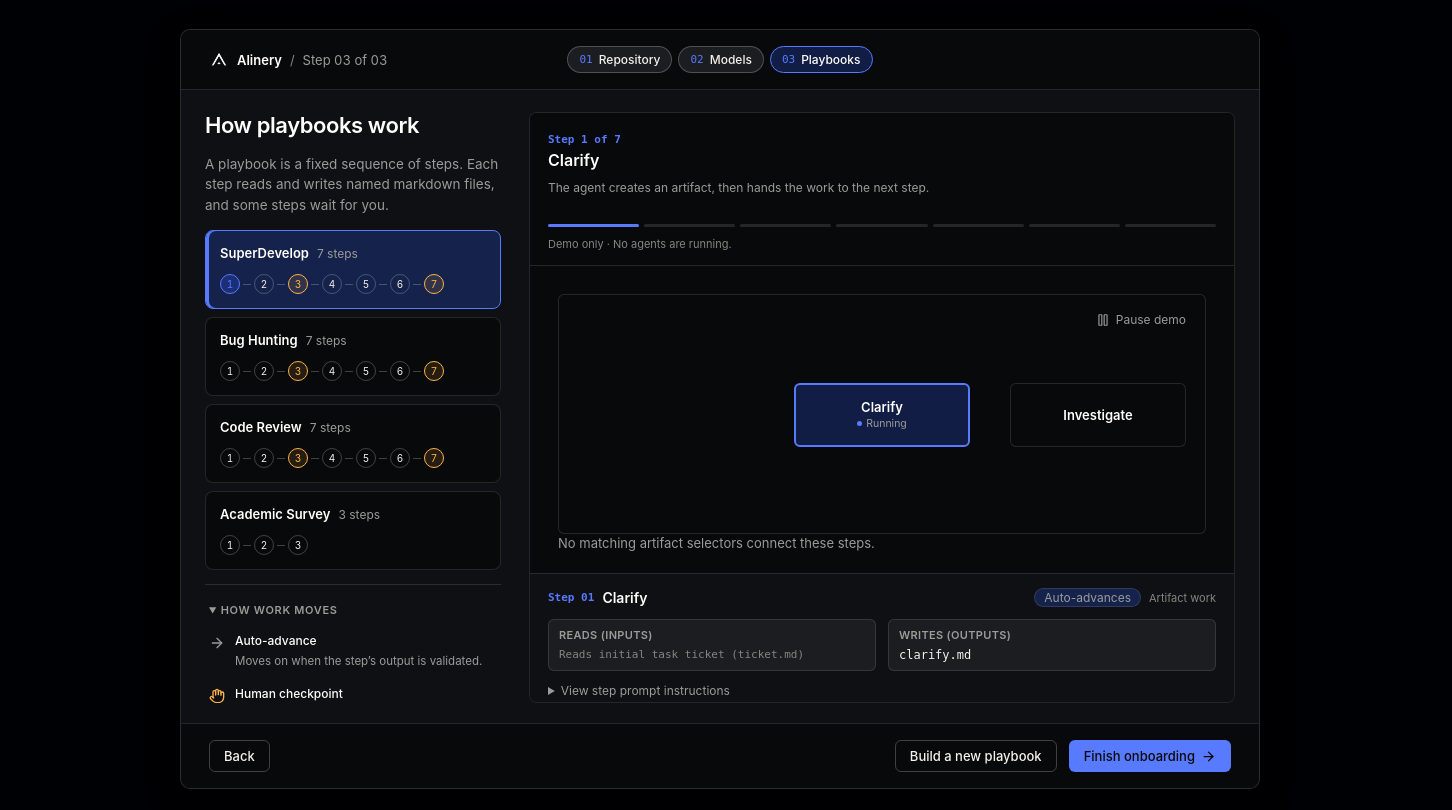
Scenario: OnboardingFlow wizard › moves playbook selection and focus with the keyboard without restarting a paused demo
Click the button "Pause demo" at (1141,320), box x1=1088 y1=306 x2=1194 y2=334
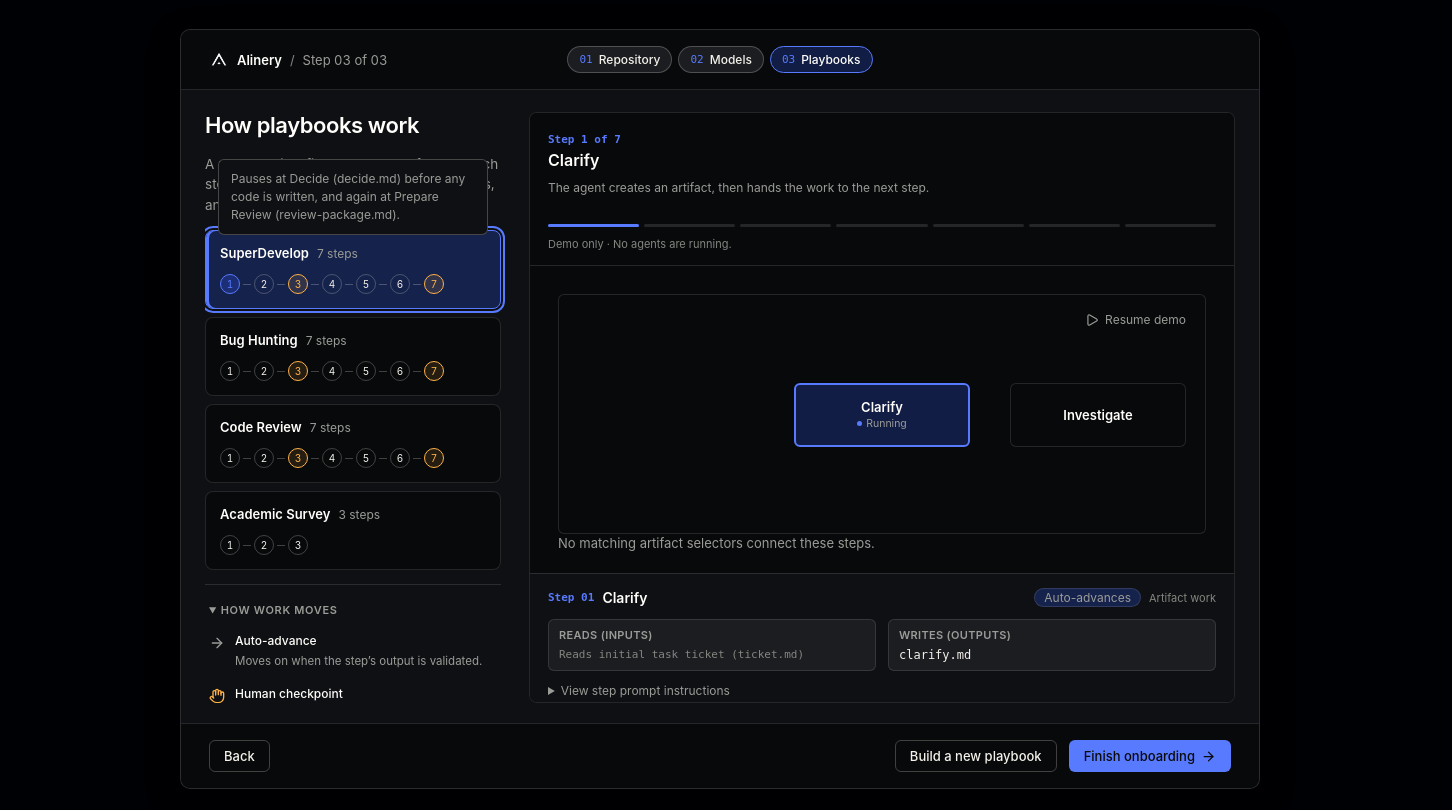
Press ArrowDown in the radio button that starts with "SuperDevelop", box x1=205 y1=230 x2=501 y2=309
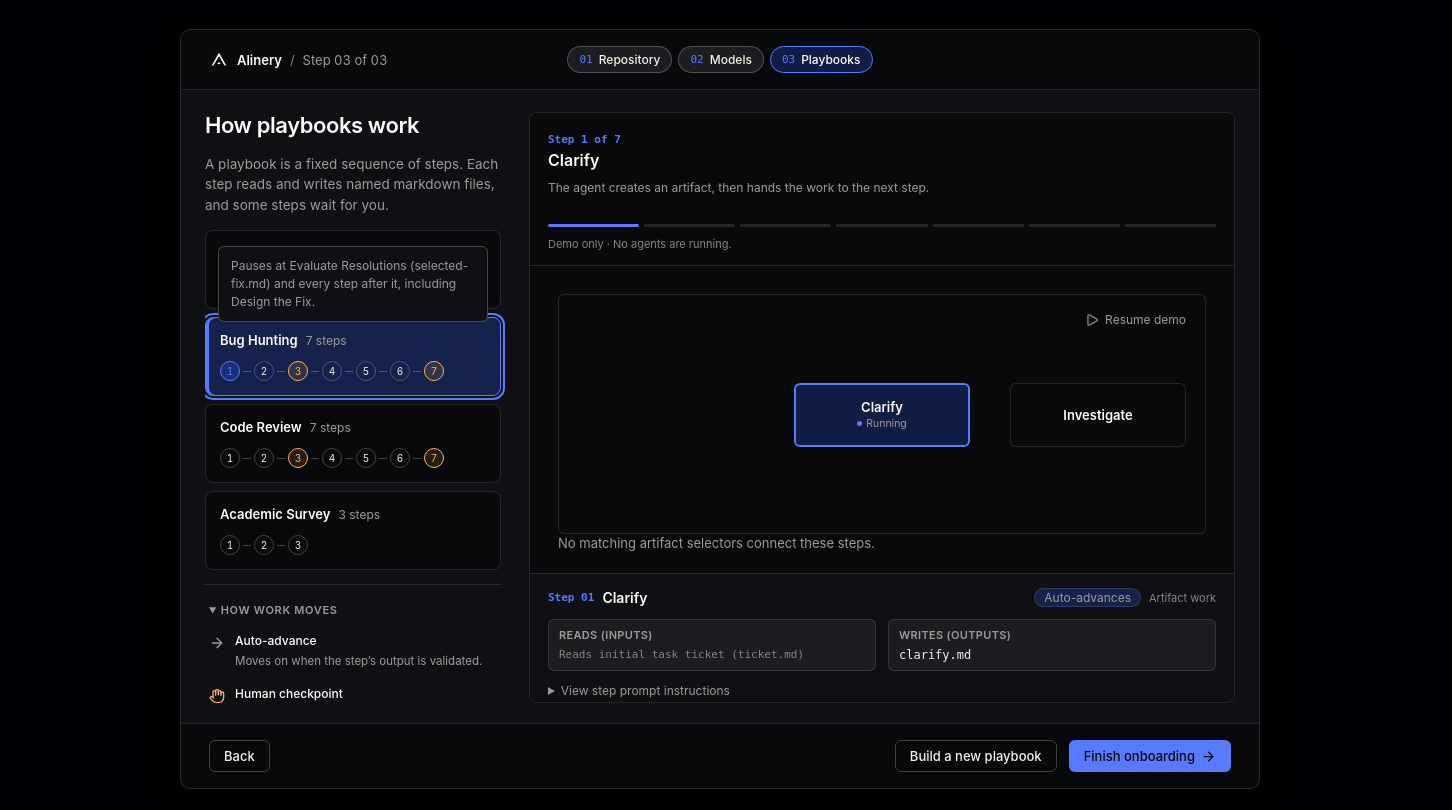
Result: the button "Resume demo" is shown at x1=1077 y1=306 x2=1194 y2=334
Press ArrowUp in the radio button that starts with "Bug Hunting", box x1=205 y1=317 x2=501 y2=396
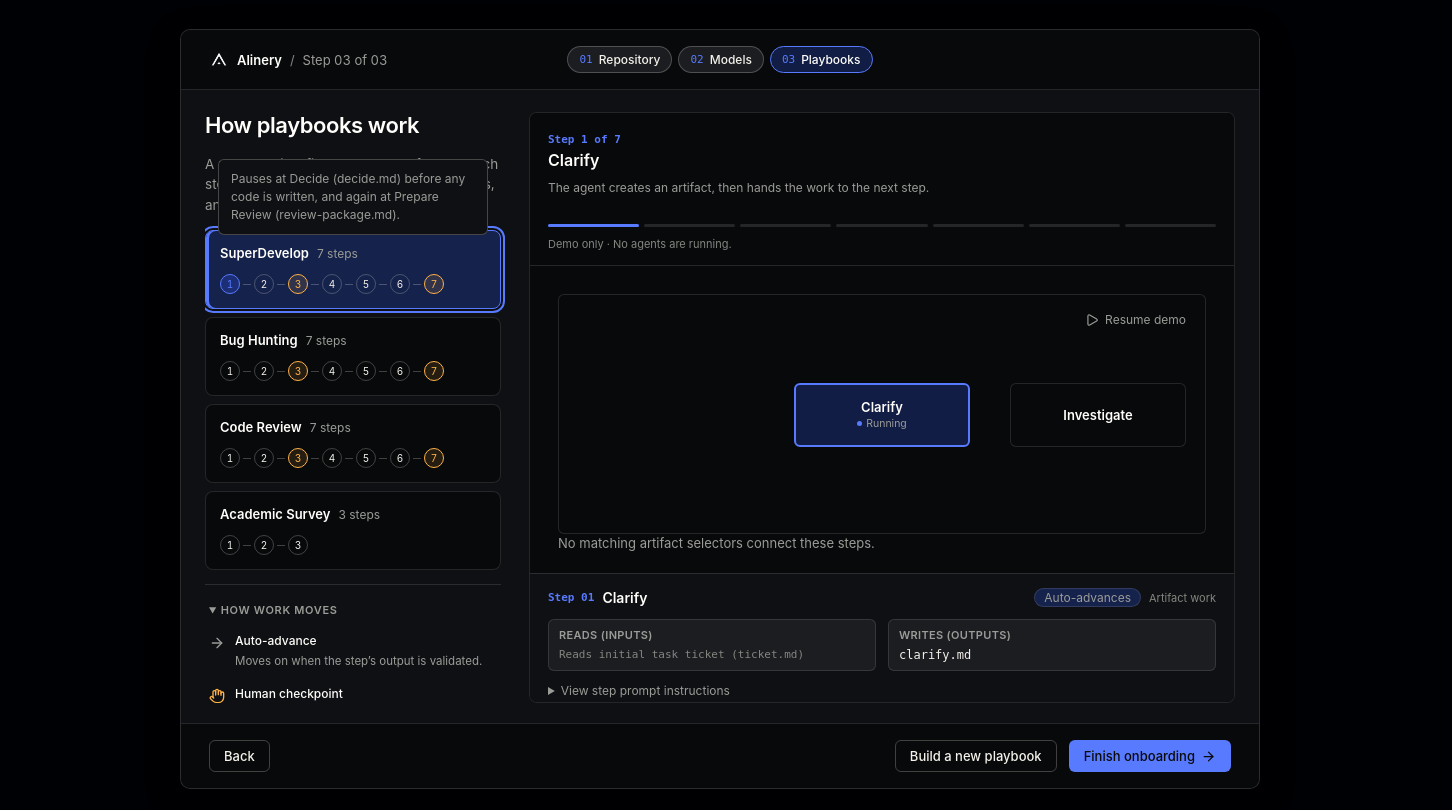
Result: the button "Resume demo" is shown at x1=1077 y1=306 x2=1194 y2=334
Press End in the radio button that starts with "SuperDevelop", box x1=205 y1=230 x2=501 y2=309
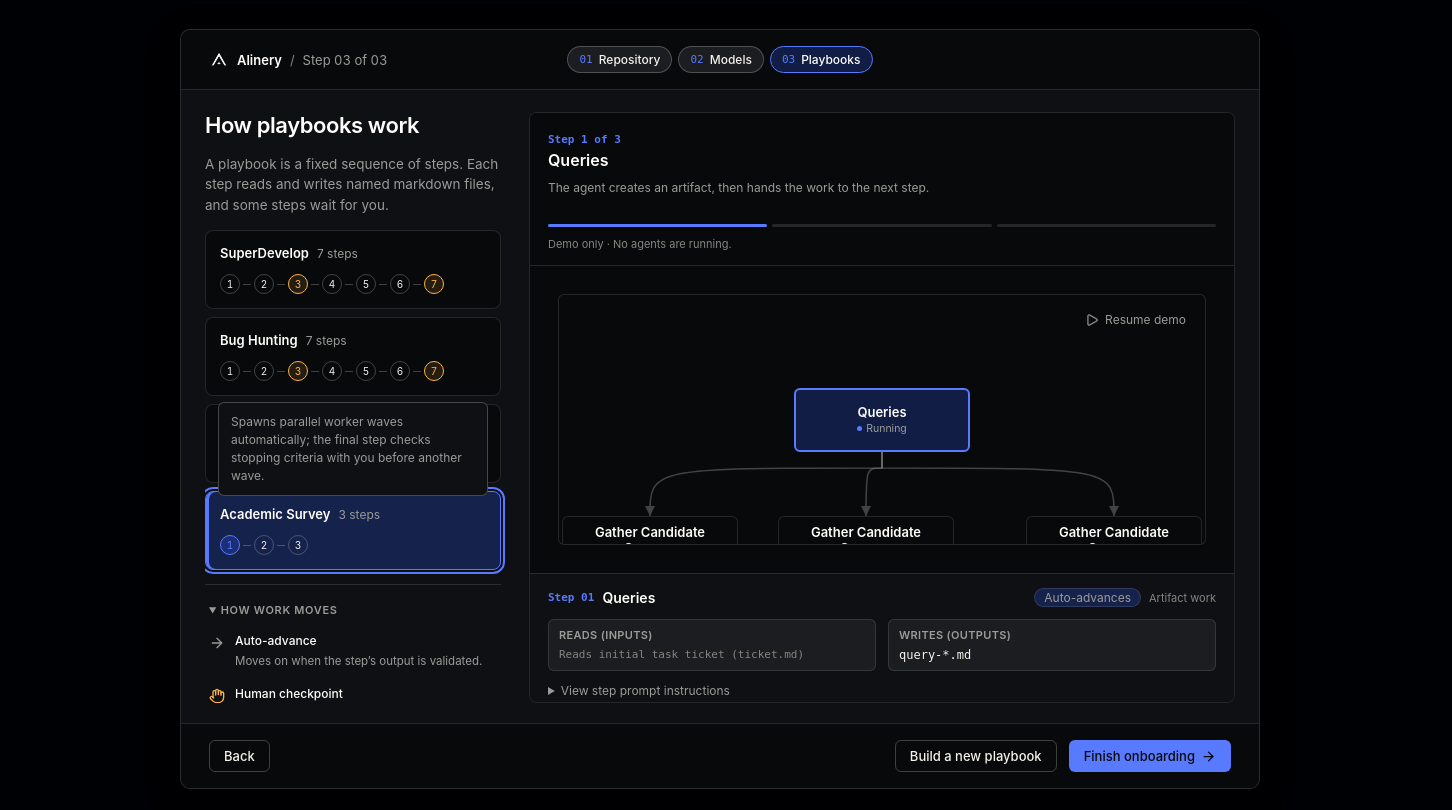
Result: the button "Resume demo" is shown at x1=1077 y1=306 x2=1194 y2=334
Press Home in the radio button that starts with "Academic Survey", box x1=205 y1=491 x2=501 y2=570
Wait 10000 ms
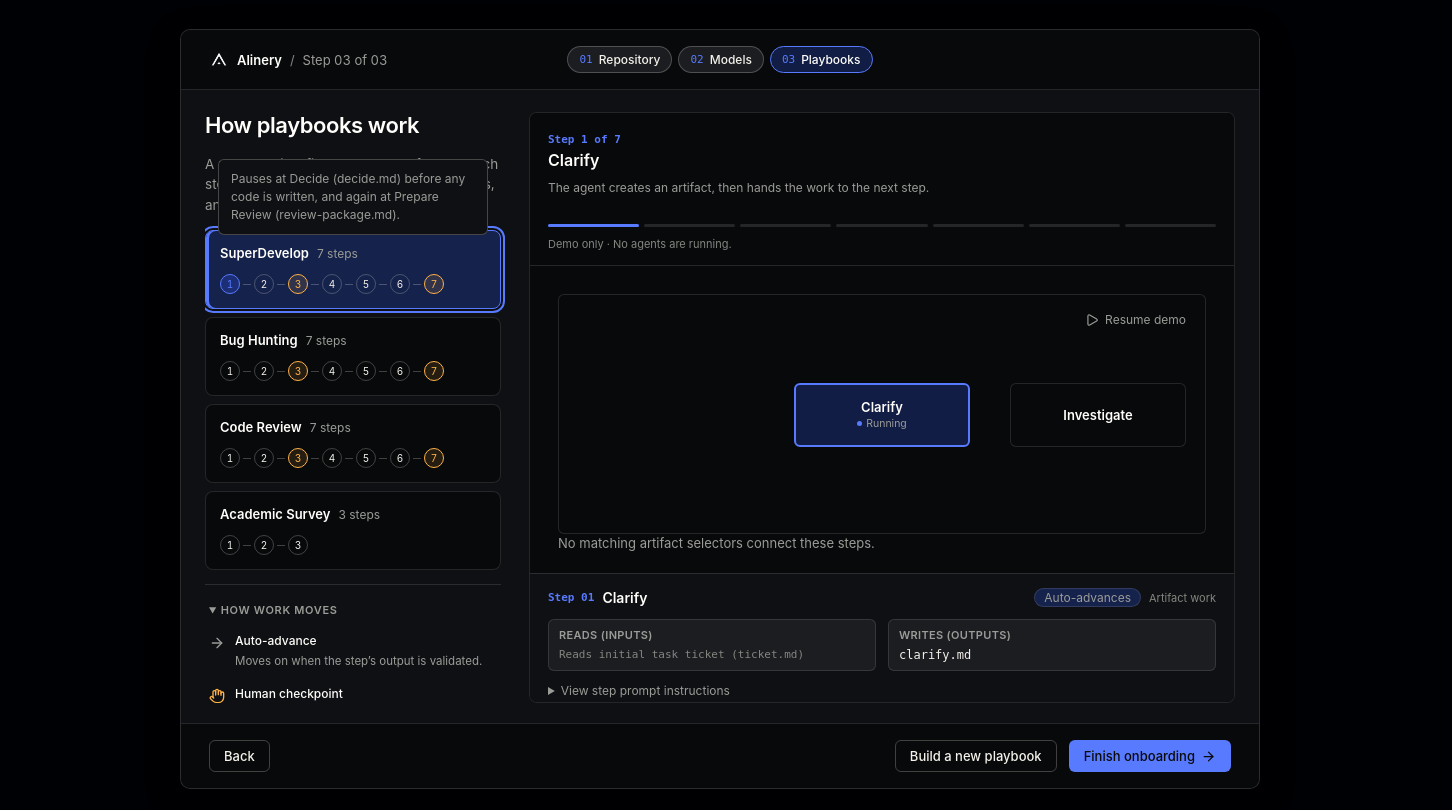
Result: the button "Resume demo" is shown at x1=1077 y1=306 x2=1194 y2=334
Result: the text "Step 1 of 7" is shown at x1=548 y1=133 x2=621 y2=146
